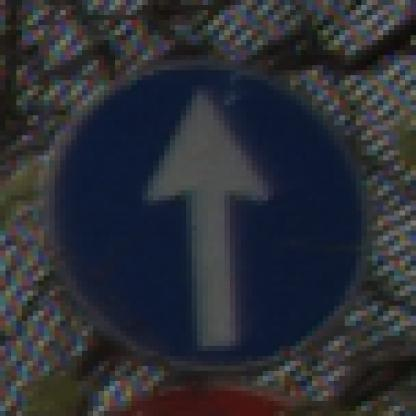AheadOnly: (39, 41, 384, 382)
